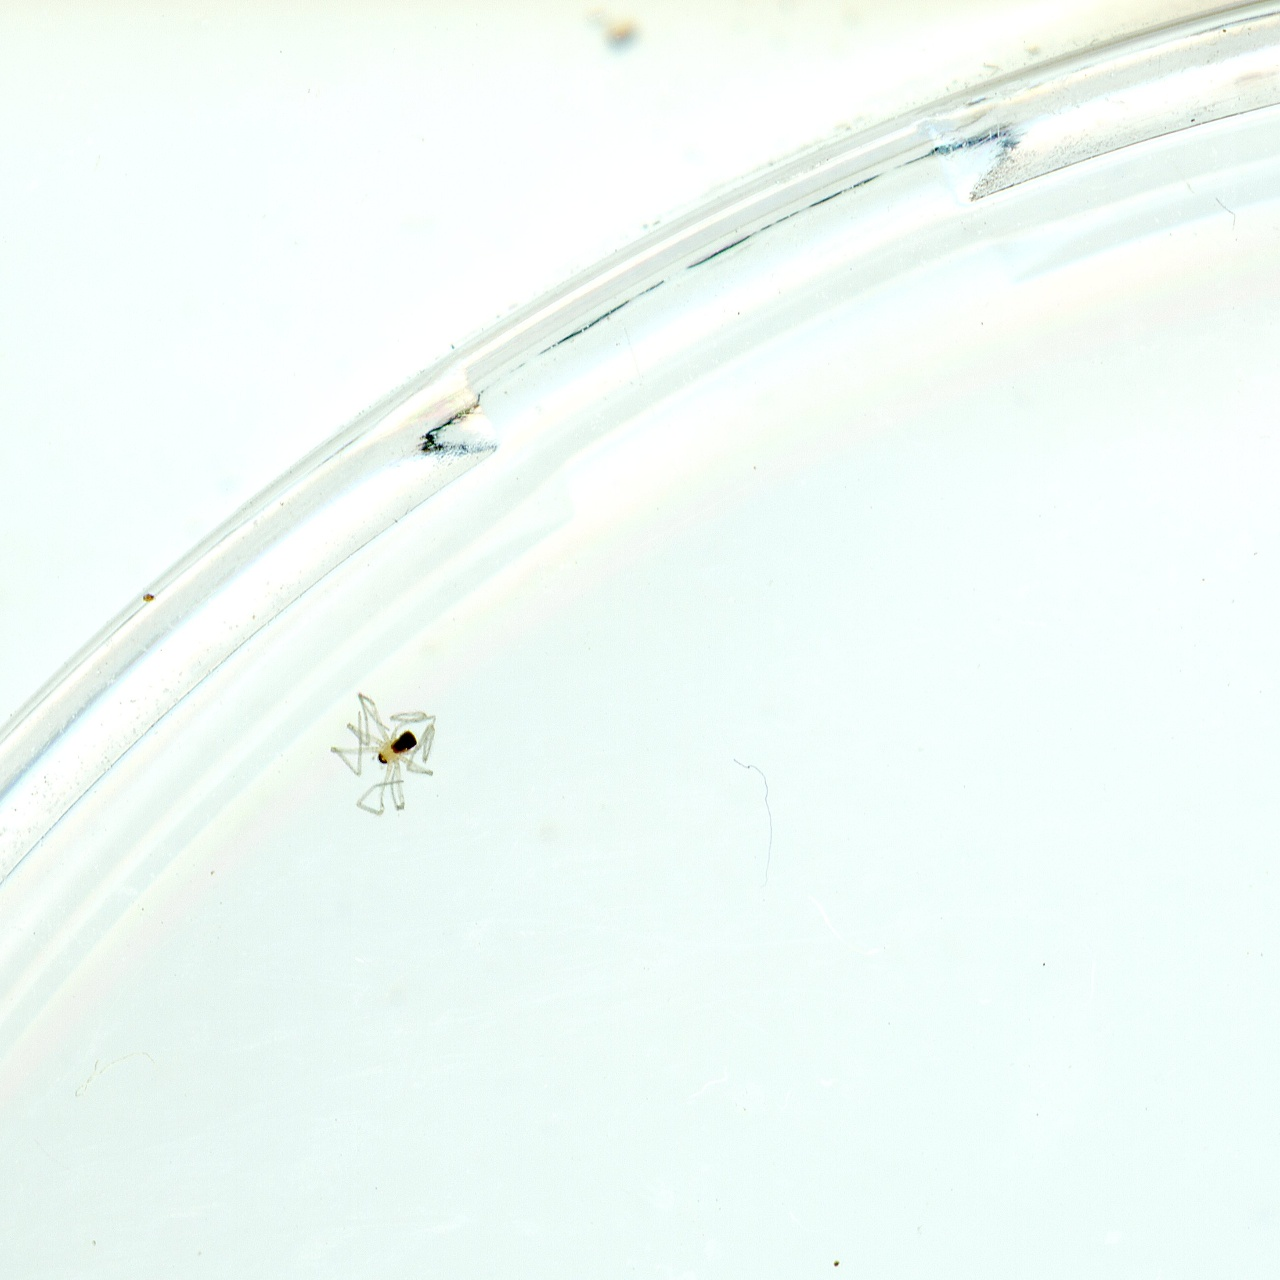arthropod: (316, 683, 446, 818)
